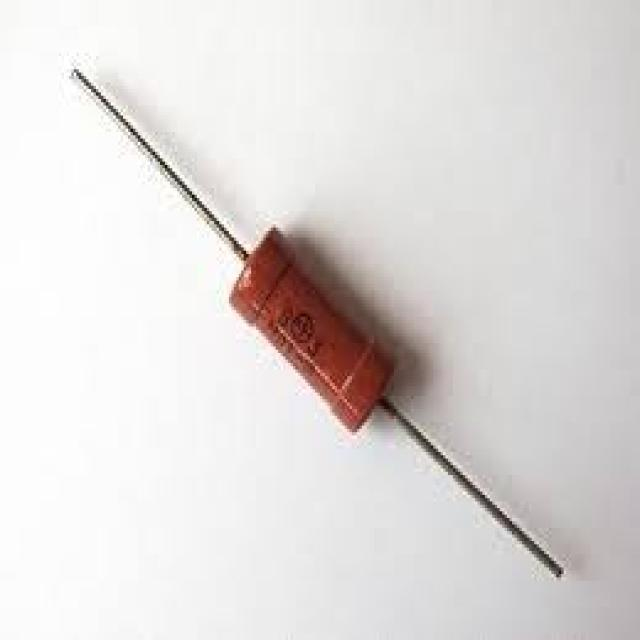Resistor: (227, 224, 398, 436)
